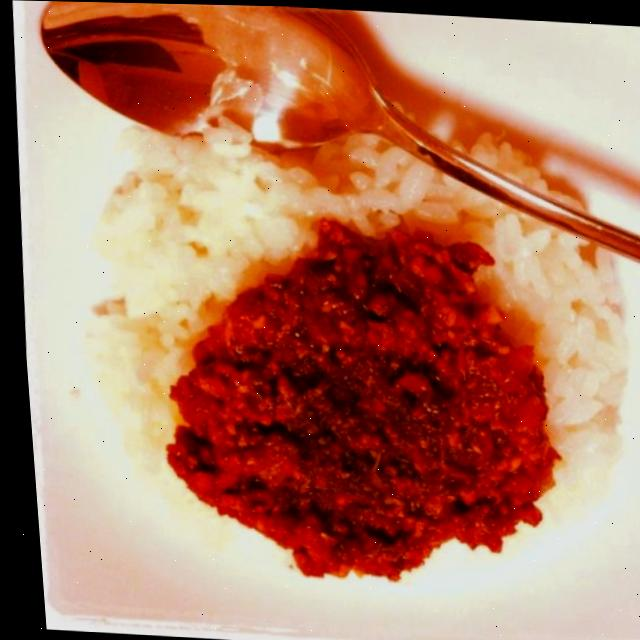汤锅炖物: (44, 199, 574, 640)
米饭主食: (18, 306, 145, 634)
